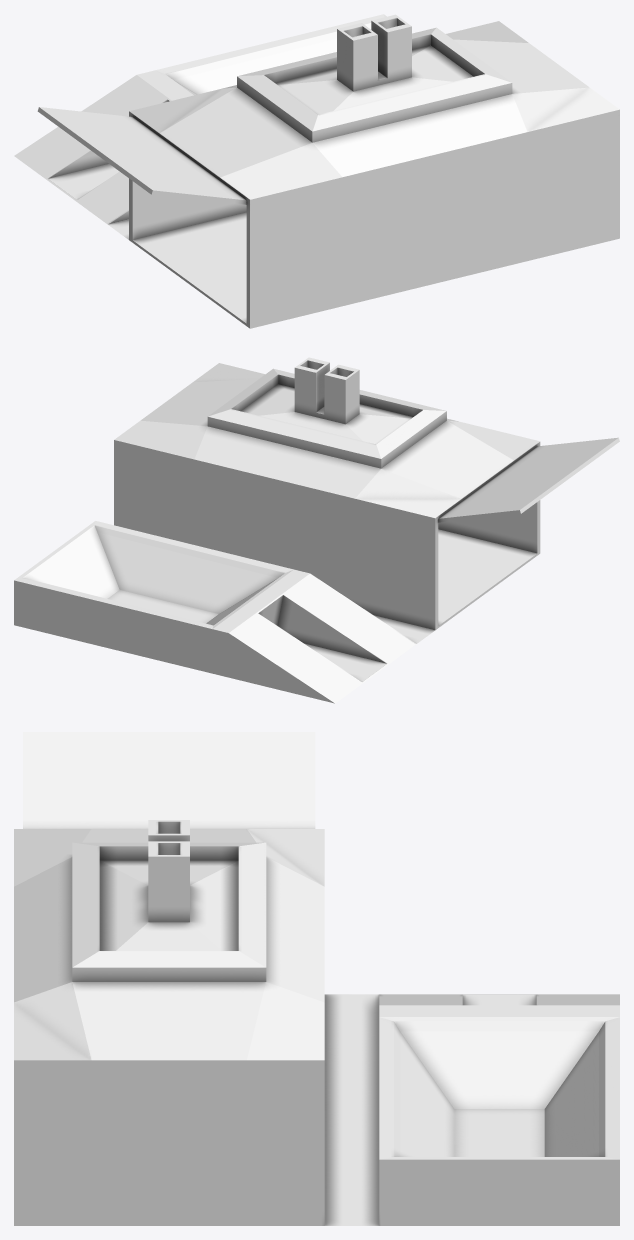
Rendered from LitterStorage.fbx.
3 views of the same model, one above another, from view 1: azimuth 30°, elevation 25°; view 2: azimuth 150°, elevation 25°; view 3: azimuth 270°, elevation 25° (orthographic). The views are drawn at different scales.
Parts seen in each view (by area): view 1: Помётохранилище; view 2: Помётохранилище; view 3: Помётохранилище.
Boxes of the visible parts, box(x1,y1,x2,y2) form: Помётохранилище: box(14, 14, 619, 328); Помётохранилище: box(14, 357, 619, 703); Помётохранилище: box(14, 732, 619, 1225).
Bounding box in the file's own units: 1.23 × 0.5335 × 1.08.
